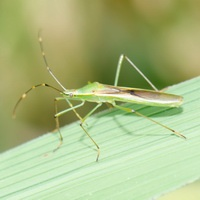insect: (12, 32, 185, 161), (116, 58, 154, 90)
